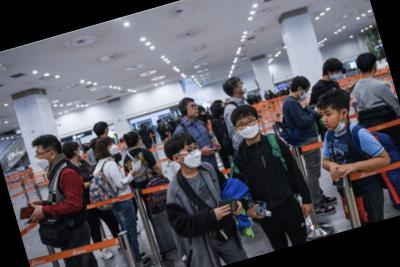mask_weared_incorrect: (320, 105, 345, 132)
with_mask: (179, 142, 206, 171), (236, 115, 263, 141), (34, 147, 53, 172), (297, 88, 314, 103), (107, 140, 121, 157), (238, 80, 250, 95), (329, 70, 344, 82), (76, 147, 86, 159)
without_mask: (186, 102, 201, 119)
